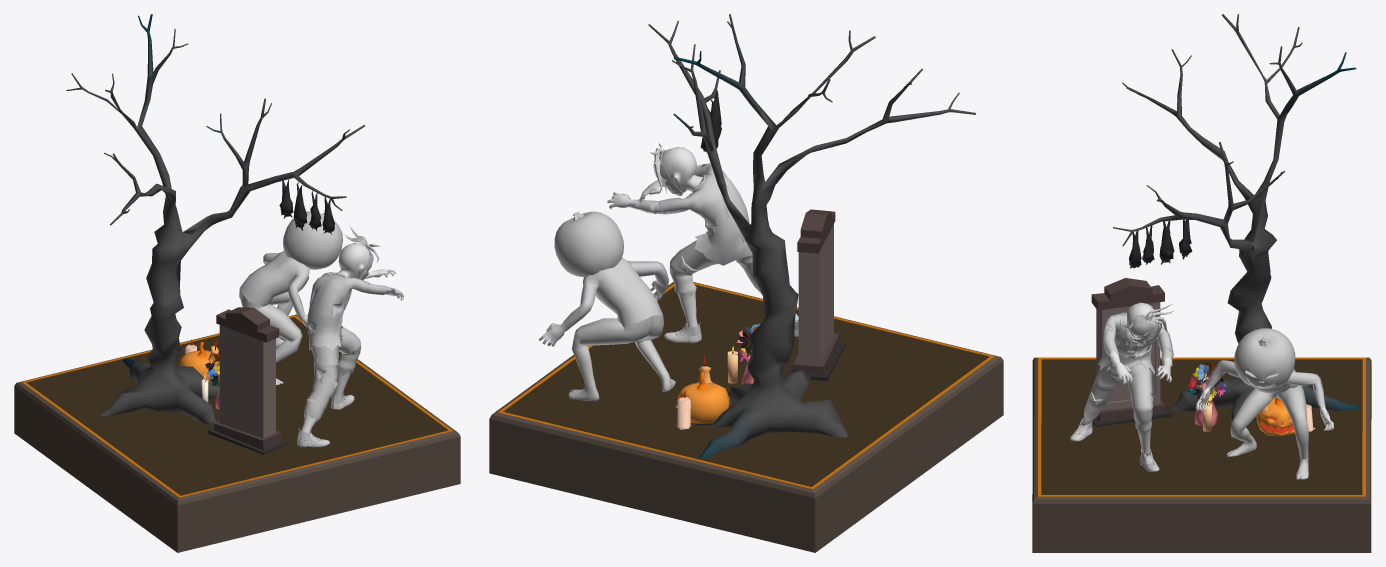
The model's file is halloween_stand.glb.
3 renders of one model, left to right at view 1: azimuth 30°, elevation 25°; view 2: azimuth 150°, elevation 25°; view 3: azimuth 270°, elevation 25°, orthographic. The views are drawn at different scales.
Parts seen in each view (by area): view 1: Cube.041, Tree_C_001.000, Candle_A_001.000, M_Head_BaseMesh.003, M_TopHead_Pumpkin2.003, M_TopHead_Pumpkin2.002, Flower_002.000; view 2: Cube.041, Tree_C_001.000, M_Head_BaseMesh.003, M_TopHead_Pumpkin2.003, Candle_A_001.000, M_TopHead_Pumpkin2.002, Flower_002.000; view 3: Cube.041, Tree_C_001.000, M_Head_BaseMesh.003, Candle_A_001.000, M_TopHead_Pumpkin2.003, M_TopHead_Pumpkin2.002, Flower_002.000.
Part boxes in pixels (x1=…): Cube.041: x1=14, y1=314, x2=460, y2=552; Tree_C_001.000: x1=66, y1=14, x2=364, y2=426; Candle_A_001.000: x1=201, y1=307, x2=287, y2=454; M_Head_BaseMesh.003: x1=297, y1=226, x2=403, y2=447; M_TopHead_Pumpkin2.003: x1=239, y1=251, x2=309, y2=384; M_TopHead_Pumpkin2.002: x1=283, y1=211, x2=342, y2=269; Flower_002.000: x1=179, y1=339, x2=219, y2=382; Cube.041: x1=489, y1=282, x2=1003, y2=552; Tree_C_001.000: x1=648, y1=14, x2=975, y2=458; M_Head_BaseMesh.003: x1=607, y1=143, x2=798, y2=343; M_TopHead_Pumpkin2.003: x1=538, y1=257, x2=675, y2=401; Candle_A_001.000: x1=727, y1=209, x2=845, y2=384; M_TopHead_Pumpkin2.002: x1=554, y1=211, x2=623, y2=277; Flower_002.000: x1=676, y1=356, x2=729, y2=429; Cube.041: x1=1032, y1=357, x2=1371, y2=552; Tree_C_001.000: x1=1113, y1=14, x2=1358, y2=421; M_Head_BaseMesh.003: x1=1070, y1=302, x2=1174, y2=471; Candle_A_001.000: x1=1091, y1=278, x2=1226, y2=431; M_TopHead_Pumpkin2.003: x1=1195, y1=360, x2=1334, y2=479; M_TopHead_Pumpkin2.002: x1=1234, y1=328, x2=1295, y2=388; Flower_002.000: x1=1256, y1=397, x2=1315, y2=436.
Size of what is drawn, in the model's own units: 4.8 by 6.13 by 4.46.
